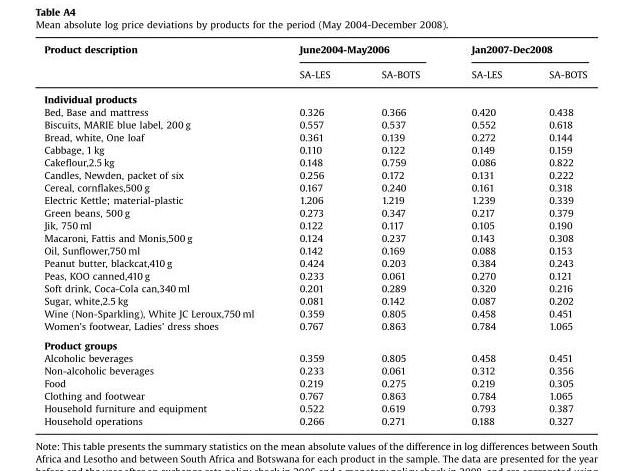table: (43, 42, 586, 426)
table column: (43, 42, 276, 426), (355, 42, 444, 426), (444, 42, 524, 426), (276, 42, 355, 426), (524, 42, 586, 426)
table column header: (43, 42, 586, 86)
table projected row header: (43, 86, 586, 105), (43, 335, 586, 351)
table row: (43, 61, 586, 86), (43, 42, 586, 61), (43, 86, 586, 105), (43, 319, 586, 335), (43, 335, 586, 351), (43, 117, 586, 130), (43, 130, 586, 143), (43, 155, 586, 168), (43, 180, 586, 193), (43, 205, 586, 218), (43, 218, 586, 231), (43, 243, 586, 256), (43, 268, 586, 281), (43, 281, 586, 294), (43, 306, 586, 319), (43, 363, 586, 376), (43, 376, 586, 389), (43, 401, 586, 414), (43, 105, 586, 117), (43, 143, 586, 155), (43, 168, 586, 180), (43, 193, 586, 205), (43, 231, 586, 243), (43, 256, 586, 268), (43, 294, 586, 306), (43, 351, 586, 363), (43, 389, 586, 401), (43, 414, 586, 426)
table spanning cell: (43, 42, 276, 86), (276, 42, 444, 61), (444, 42, 586, 61)
